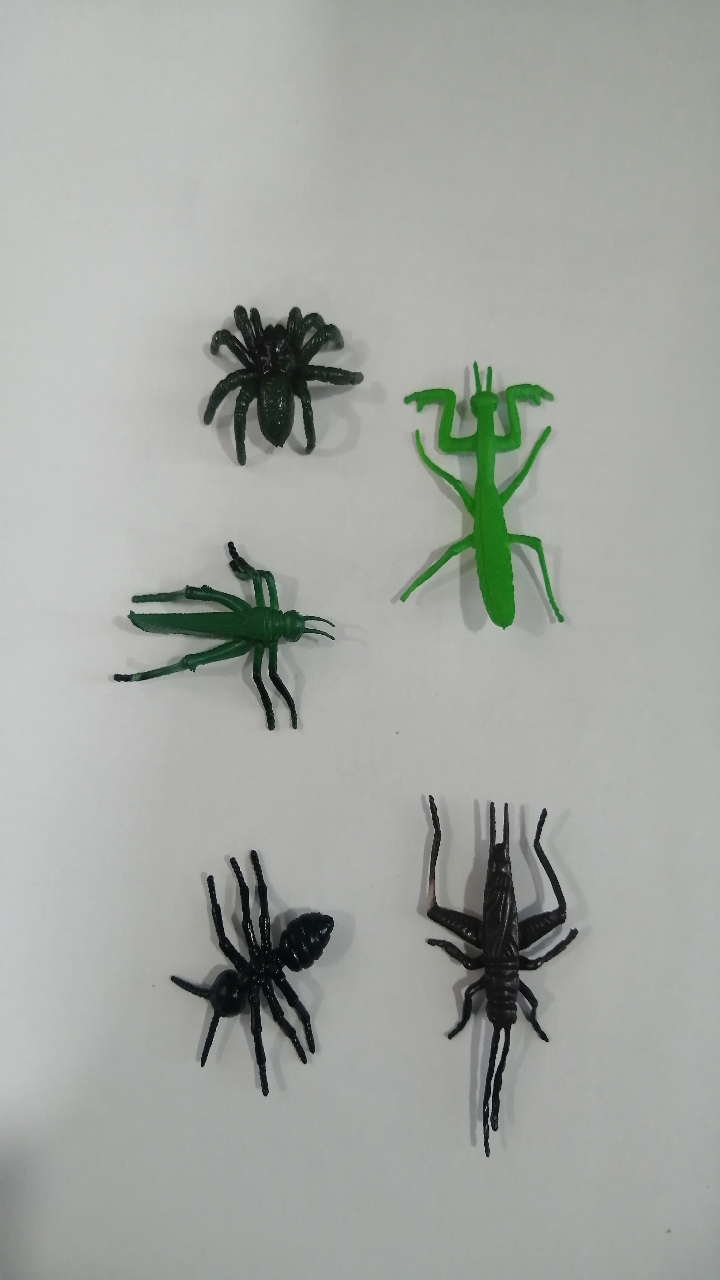intruso: (381, 757, 612, 1202), (378, 326, 601, 657), (126, 820, 358, 1111), (92, 517, 351, 748), (166, 257, 372, 503)
